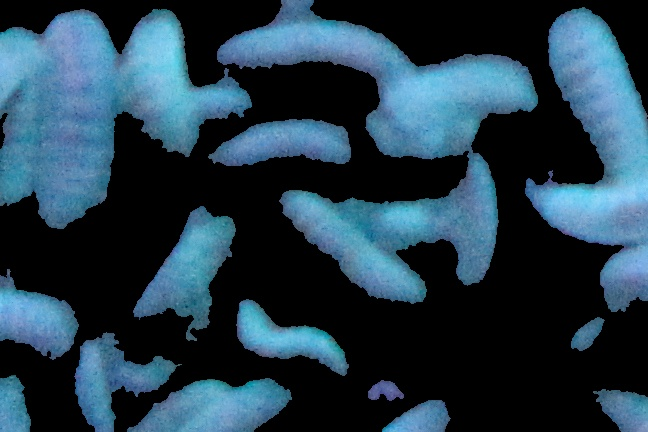larvae: (120, 11, 204, 224), (279, 190, 431, 307), (40, 14, 118, 239), (545, 10, 648, 175), (122, 210, 234, 322), (211, 24, 406, 84), (524, 168, 648, 256), (381, 55, 538, 117), (201, 113, 358, 172), (233, 297, 348, 377), (1, 279, 86, 359), (65, 342, 129, 432), (132, 375, 230, 432), (1, 76, 42, 208), (366, 191, 462, 245), (457, 163, 497, 287), (368, 114, 478, 159), (198, 381, 291, 432)
